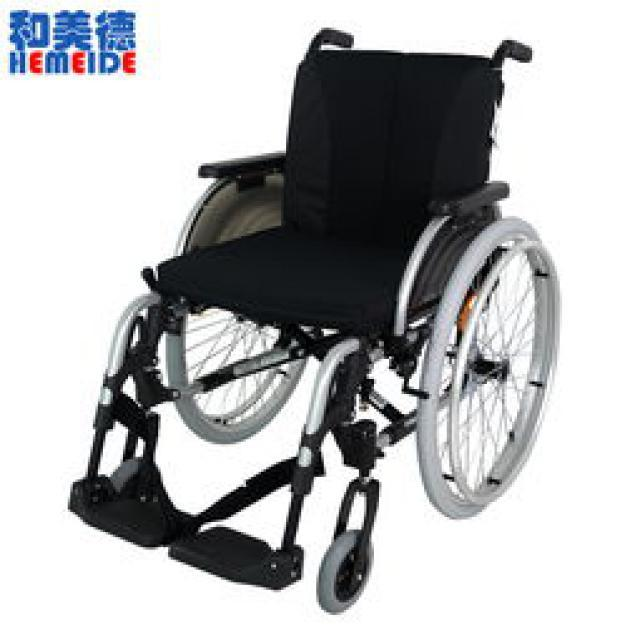wheelchair: (78, 18, 570, 612)
